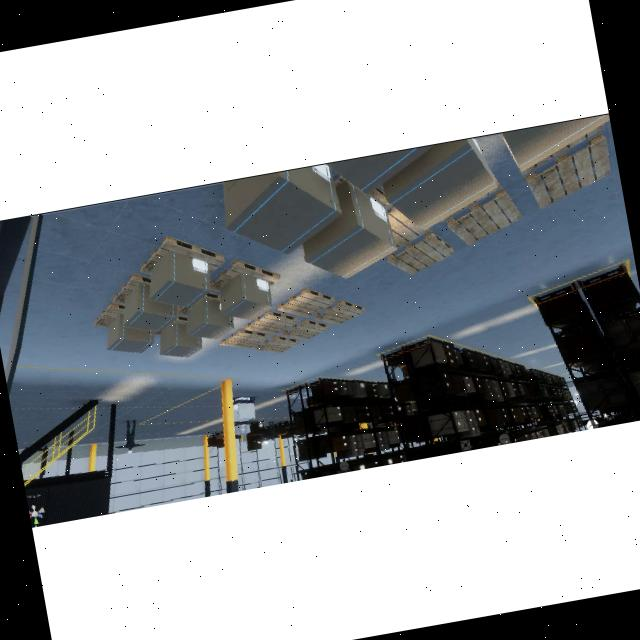wooden_pallet: (446, 187, 523, 246), (140, 234, 224, 275), (387, 230, 454, 275), (209, 259, 280, 292), (275, 288, 335, 317), (244, 309, 299, 334), (313, 299, 366, 324), (113, 272, 150, 304), (220, 328, 269, 348), (281, 319, 329, 339), (254, 335, 300, 353), (93, 302, 124, 327)
